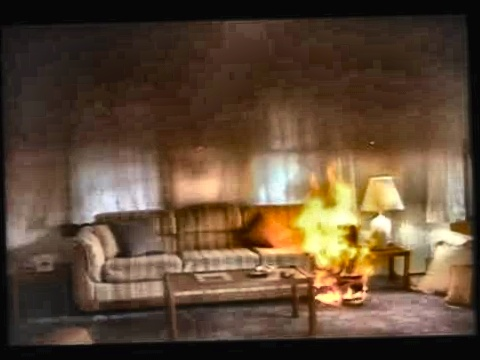fire: (290, 169, 389, 317)
smoke: (0, 3, 286, 177)
